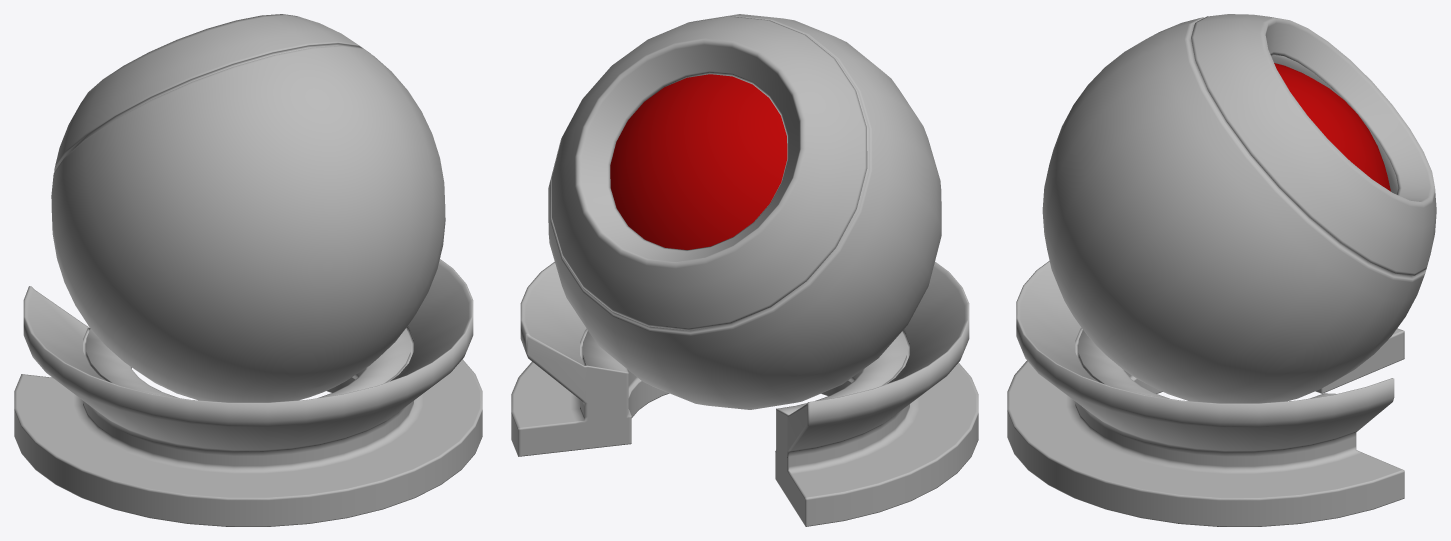
File: mori-knob.gltf
The picture shows the model from 3 angles, left to right: view 1: azimuth 30°, elevation 25°; view 2: azimuth 150°, elevation 25°; view 3: azimuth 270°, elevation 25°; orthographic projection.
Parts seen in each view (by area): view 1: OuterMat; view 2: OuterMat; view 3: OuterMat.
Part boxes in pixels (left/top/right/bottom): OuterMat: left=14, top=14, right=482, bottom=526; OuterMat: left=511, top=14, right=978, bottom=526; OuterMat: left=1007, top=14, right=1436, bottom=526.
Bounding box in the file's own units: 5.49 × 5.17 × 5.08.
